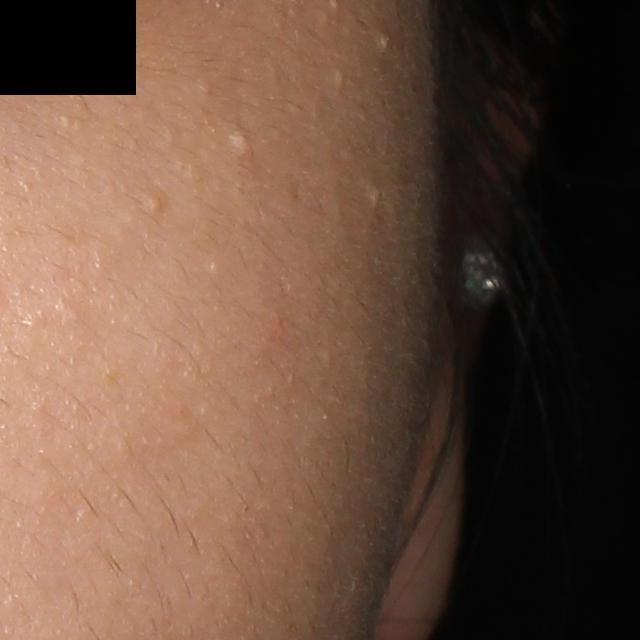other: (231, 132, 250, 154), (371, 184, 386, 208), (379, 32, 390, 54), (335, 69, 343, 90)
